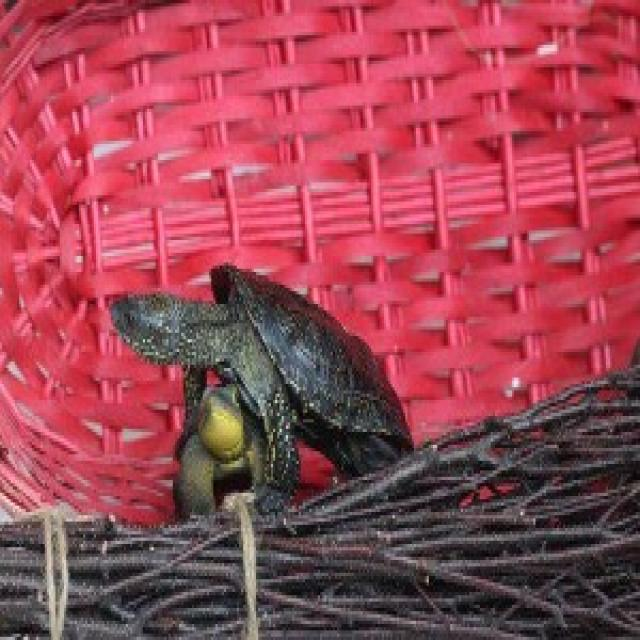Sea turtle: (117, 269, 428, 503)
